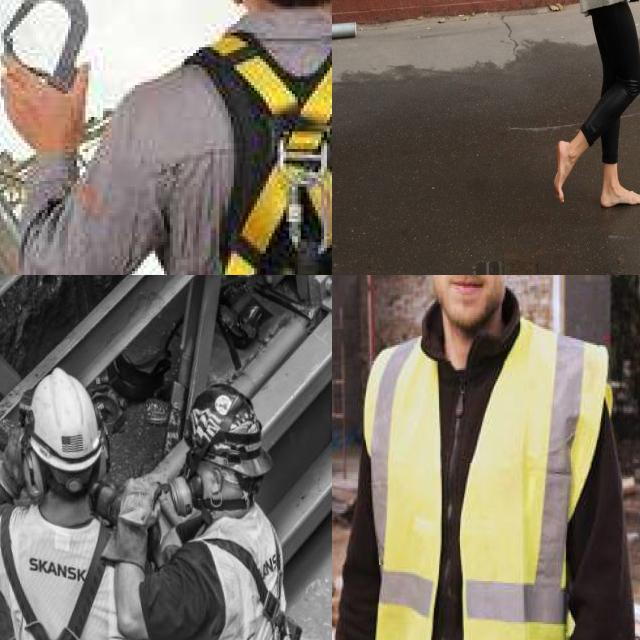Barefoots: (554, 140, 570, 203), (600, 185, 640, 207)
Harness: (143, 15, 332, 275), (210, 539, 303, 640)
face_nomask: (428, 275, 520, 327)
person: (343, 275, 629, 640)
vest: (366, 339, 590, 640)
